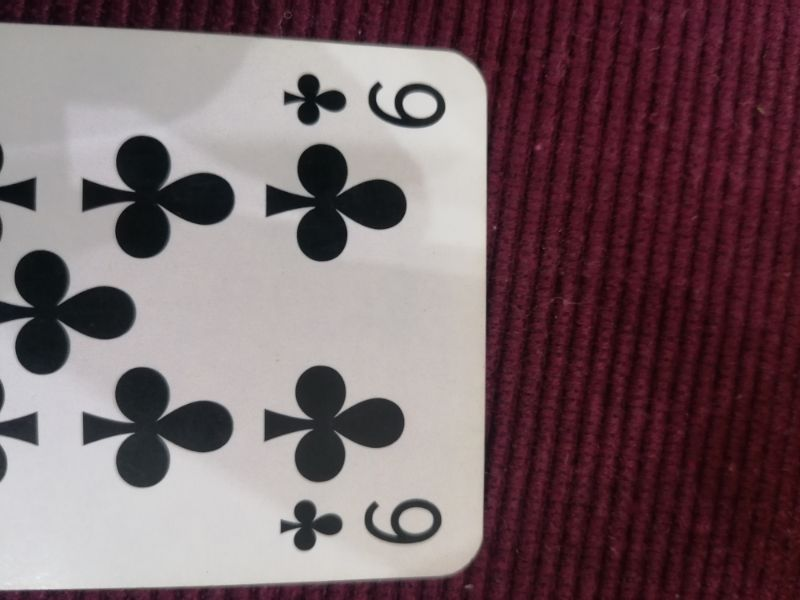9c: (278, 493, 448, 556), (280, 72, 451, 130)
